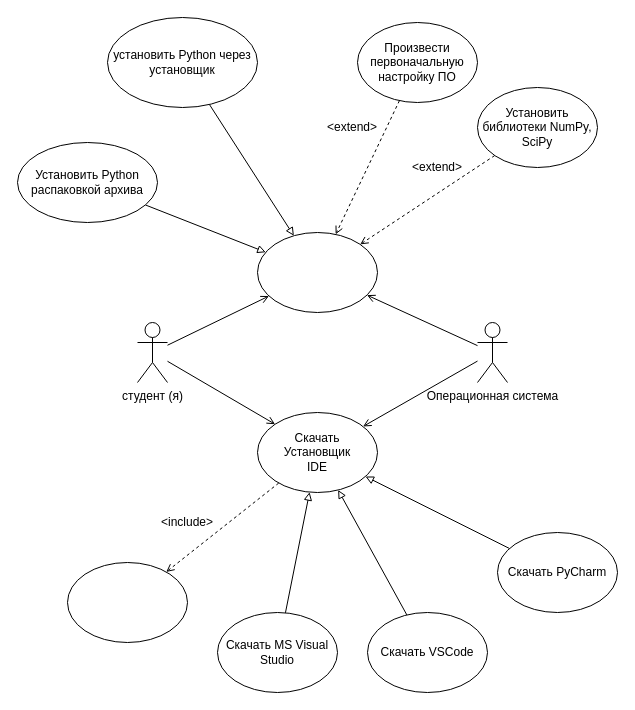
The diagram is 635 pixels wide and 710 high, and some of its shapes have lost their labels. The centre of each missing label's shape, as x and y in pixels:
Копировать данные в рабочую папку: pixel 127 602
Установить IDE Python: pixel 317 272
